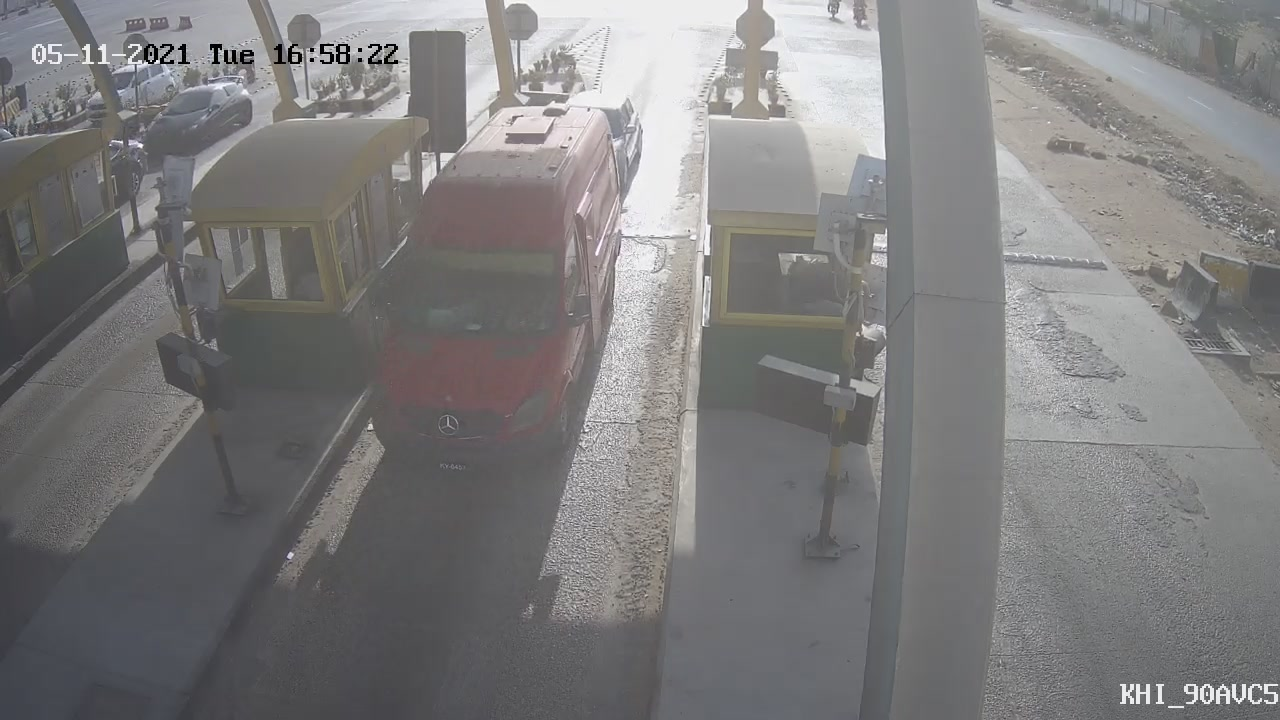F2: (342, 78, 643, 499)
